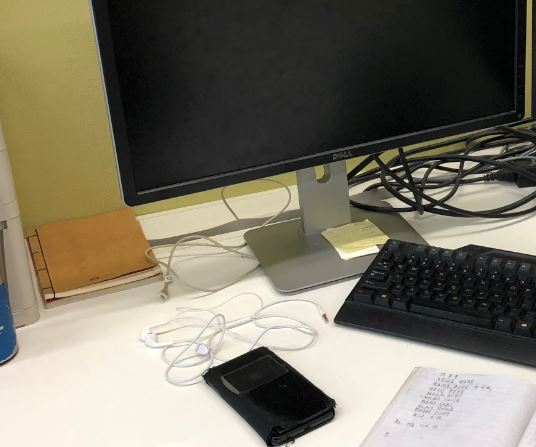mobil: (197, 344, 337, 444)
